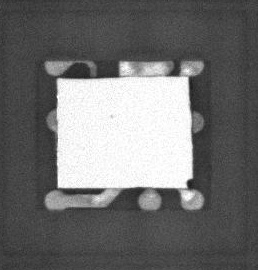DIE_BROKEN: (186, 75, 193, 110), (184, 177, 193, 190)
